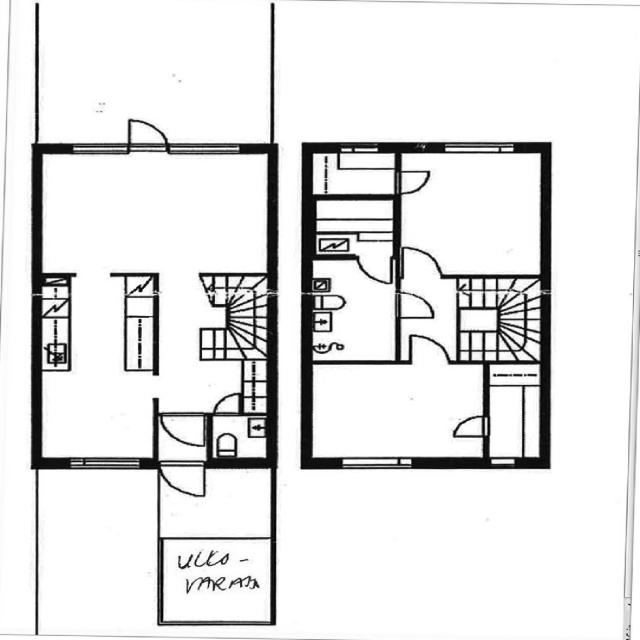door: (402, 235, 442, 288), (157, 456, 204, 498), (405, 328, 451, 370), (397, 280, 433, 331), (409, 325, 446, 372), (160, 405, 203, 444), (452, 405, 486, 450), (360, 248, 390, 294), (129, 115, 167, 149), (397, 166, 431, 200), (214, 388, 240, 418)
window: (344, 452, 409, 470), (73, 456, 138, 473), (446, 142, 512, 154), (176, 140, 238, 152), (76, 142, 120, 154)
zone: (40, 148, 270, 464), (396, 142, 547, 276), (308, 366, 486, 460), (315, 202, 396, 359), (157, 538, 270, 624), (485, 361, 546, 464), (314, 194, 394, 258), (318, 140, 388, 203), (208, 416, 270, 462)
